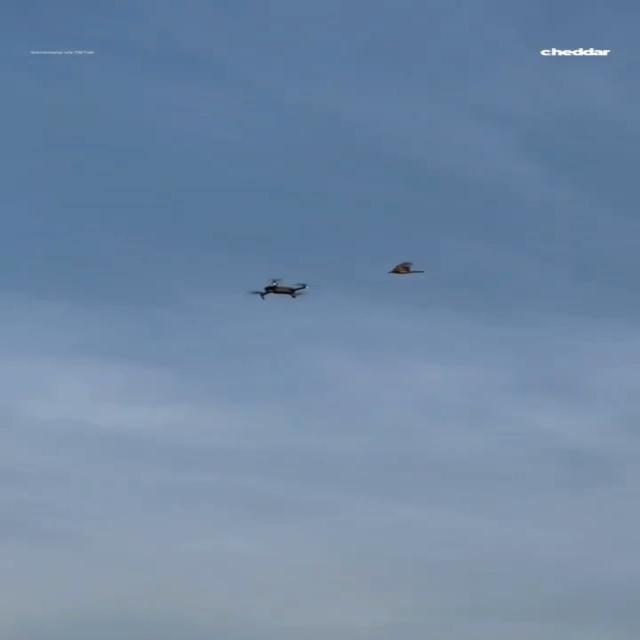bird: (386, 262, 424, 274)
drone: (250, 278, 308, 300)
